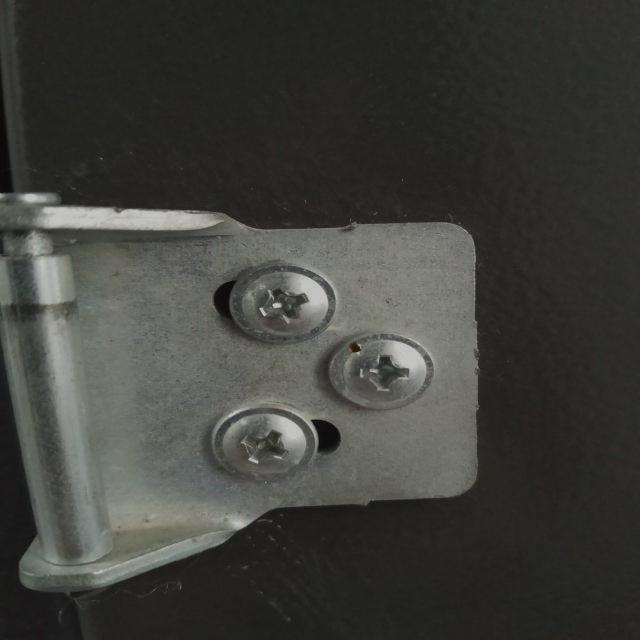phillips: (230, 261, 337, 343), (210, 401, 319, 479), (329, 332, 434, 412)
